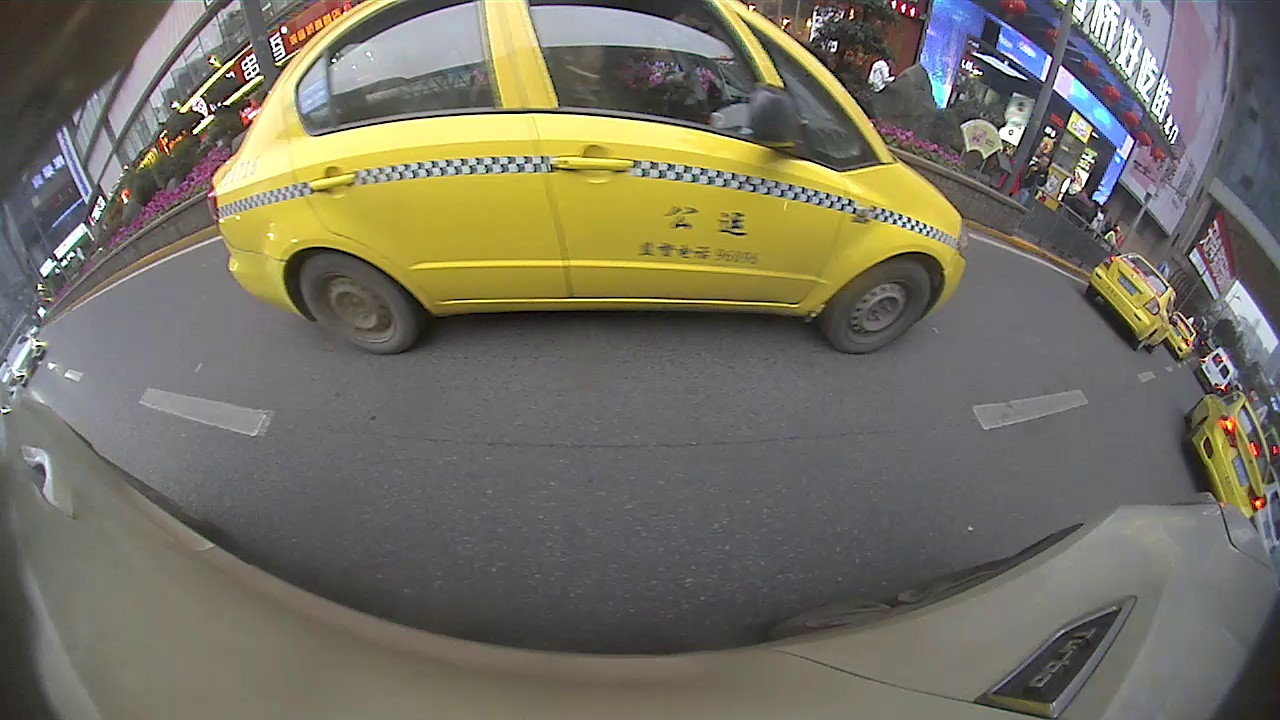car: (203, 2, 967, 357), (1183, 391, 1271, 523), (1083, 252, 1179, 352), (1195, 346, 1238, 396), (1168, 313, 1201, 360)
front: (824, 258, 935, 356)
rear: (290, 254, 418, 357), (1181, 419, 1208, 446)
